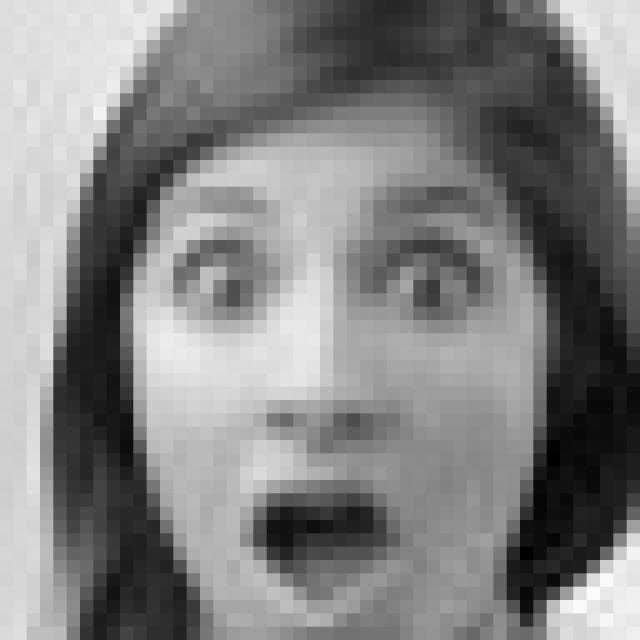surprise: (158, 174, 517, 622)
